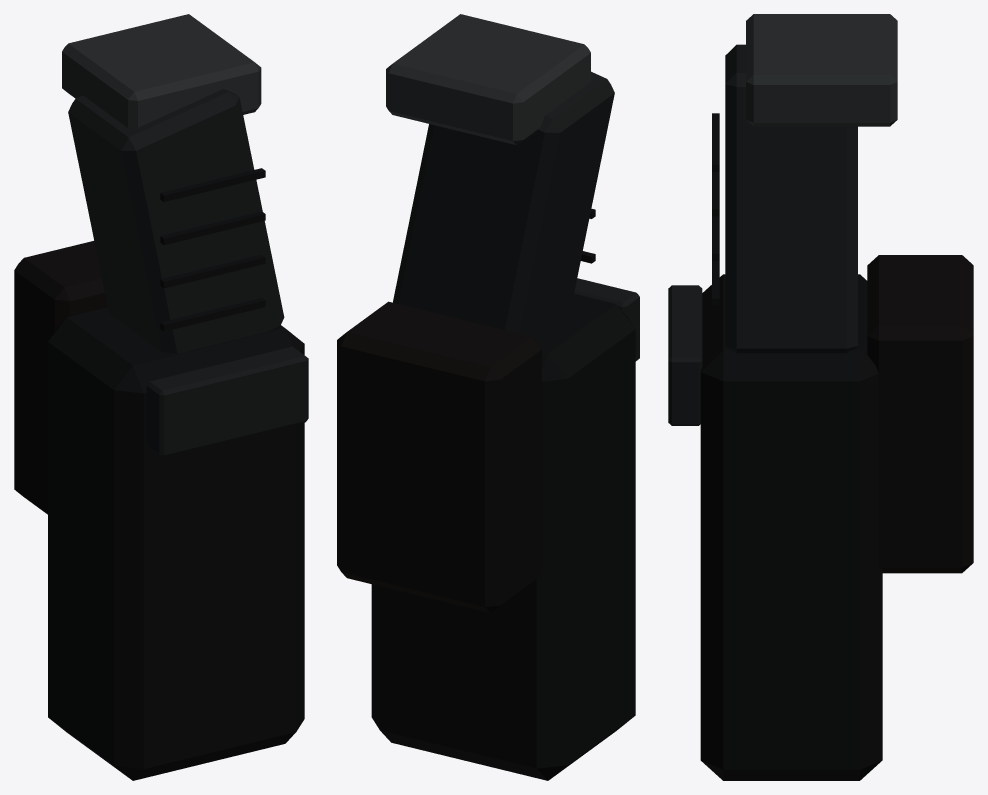
The model's file is PoliceHolsteredGun.fbx.
3 views of the same model, side by side, from view 1: azimuth 30°, elevation 25°; view 2: azimuth 150°, elevation 25°; view 3: azimuth 270°, elevation 25° (orthographic). The views are drawn at different scales.
Visible parts, largest first — view 1: PoliceHolsteredGun; view 2: PoliceHolsteredGun; view 3: PoliceHolsteredGun.
Part boxes in pixels (<box>): PoliceHolsteredGun: <box>14,14,308,780</box>; PoliceHolsteredGun: <box>337,14,639,780</box>; PoliceHolsteredGun: <box>668,14,973,780</box>.
Size of the model in its own units: 0.06 by 0.203 by 0.0805.
Materials: 1 (1 with a texture image).
